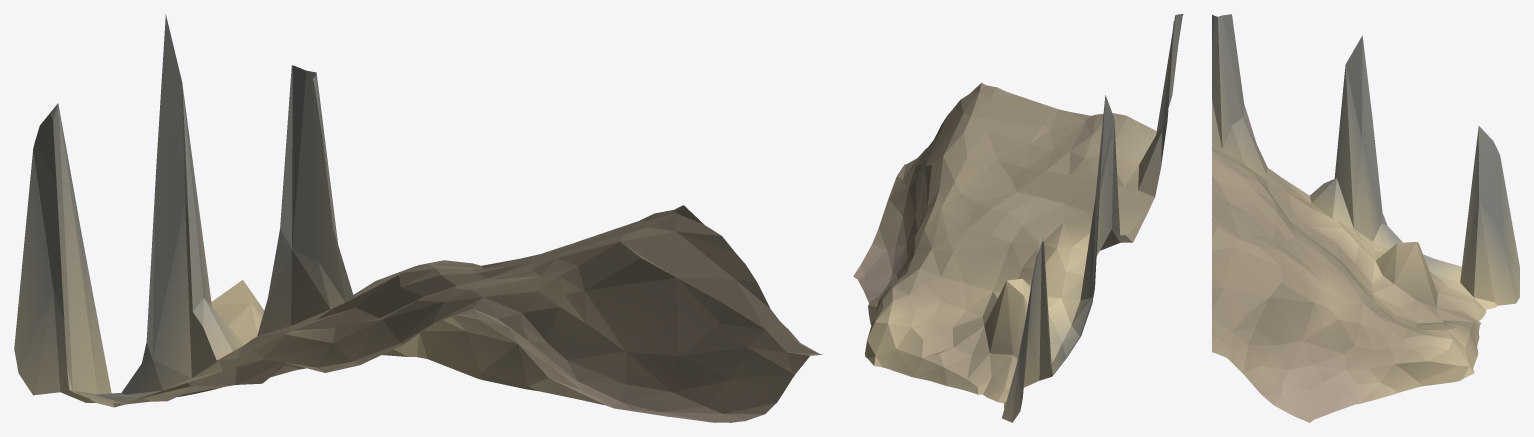
The model's file is bisect-2-5-8.gltf.
3 views of the same model, side by side, from view 1: azimuth 30°, elevation 25°; view 2: azimuth 150°, elevation 25°; view 3: azimuth 270°, elevation 25° (orthographic). The views are drawn at different scales.
Parts seen in each view (by area): view 1: bisect-2-5-8; view 2: bisect-2-5-8; view 3: bisect-2-5-8.
Part boxes in pixels (x1,y1,x2,y2): bisect-2-5-8: [14, 14, 822, 422]; bisect-2-5-8: [853, 14, 1183, 422]; bisect-2-5-8: [1212, 14, 1519, 422].
Bounding box in the file's own units: 20 × 20 × 20.
